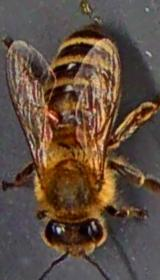varroa_mite: (42, 104, 60, 124)
